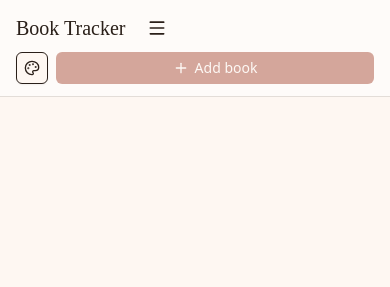
Scenario: AppHeader › mobile navigation › Escape closes the mobile nav
The width and height of the screenshot is (390, 287).
Click the button with test id "header-nav-toggle". click: (158,28)
box: [142,12,174,44]
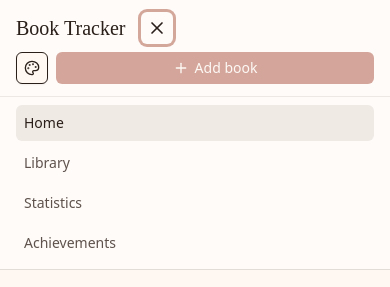
Expected: the navigation bar with test id "header-mobile-nav" is shown
Press Escape
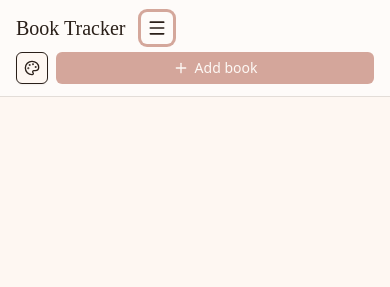
Expected: the navigation bar with test id "header-mobile-nav" is gone
